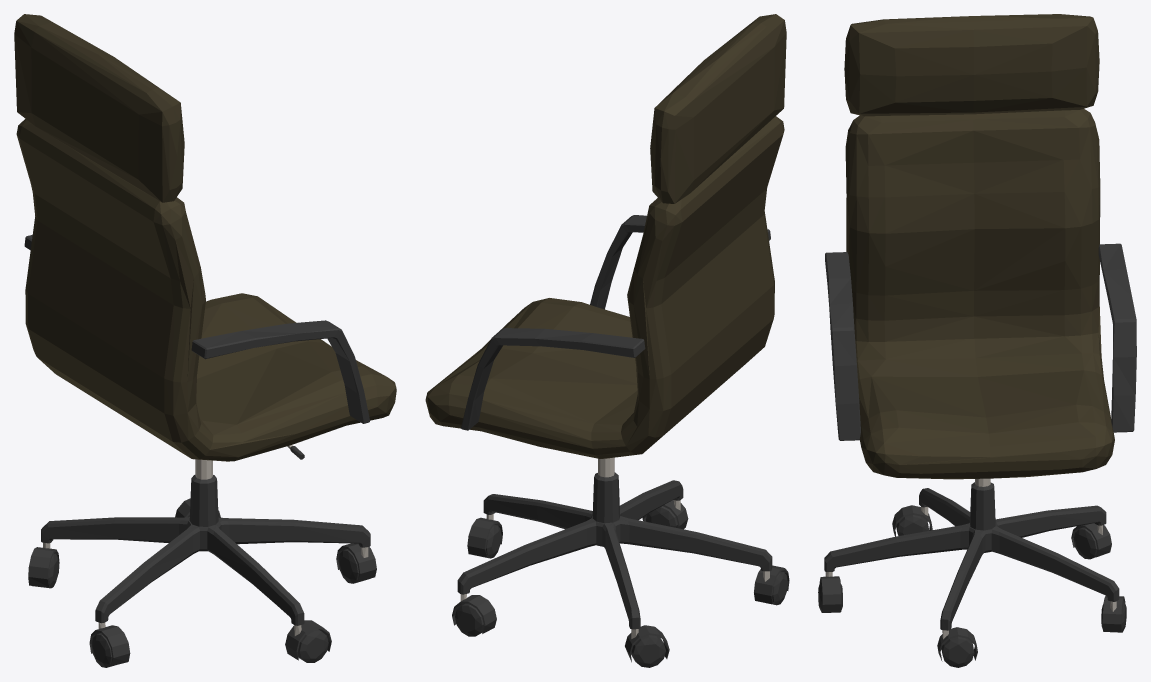
The model's file is SillaProfe.glb.
3 renders of one model, left to right at view 1: azimuth 30°, elevation 25°; view 2: azimuth 150°, elevation 25°; view 3: azimuth 270°, elevation 25°, orthographic. The views are drawn at different scales.
Parts seen in each view (by area): view 1: Chair.003; view 2: Chair.003; view 3: Chair.003.
Boxes of the visible parts, left/top/right/bottom form: Chair.003: left=14, top=14, right=396, bottom=667; Chair.003: left=425, top=14, right=789, bottom=667; Chair.003: left=818, top=14, right=1136, bottom=667.
Bounding box in the file's own units: 0.5783 × 1.09 × 0.5882.
